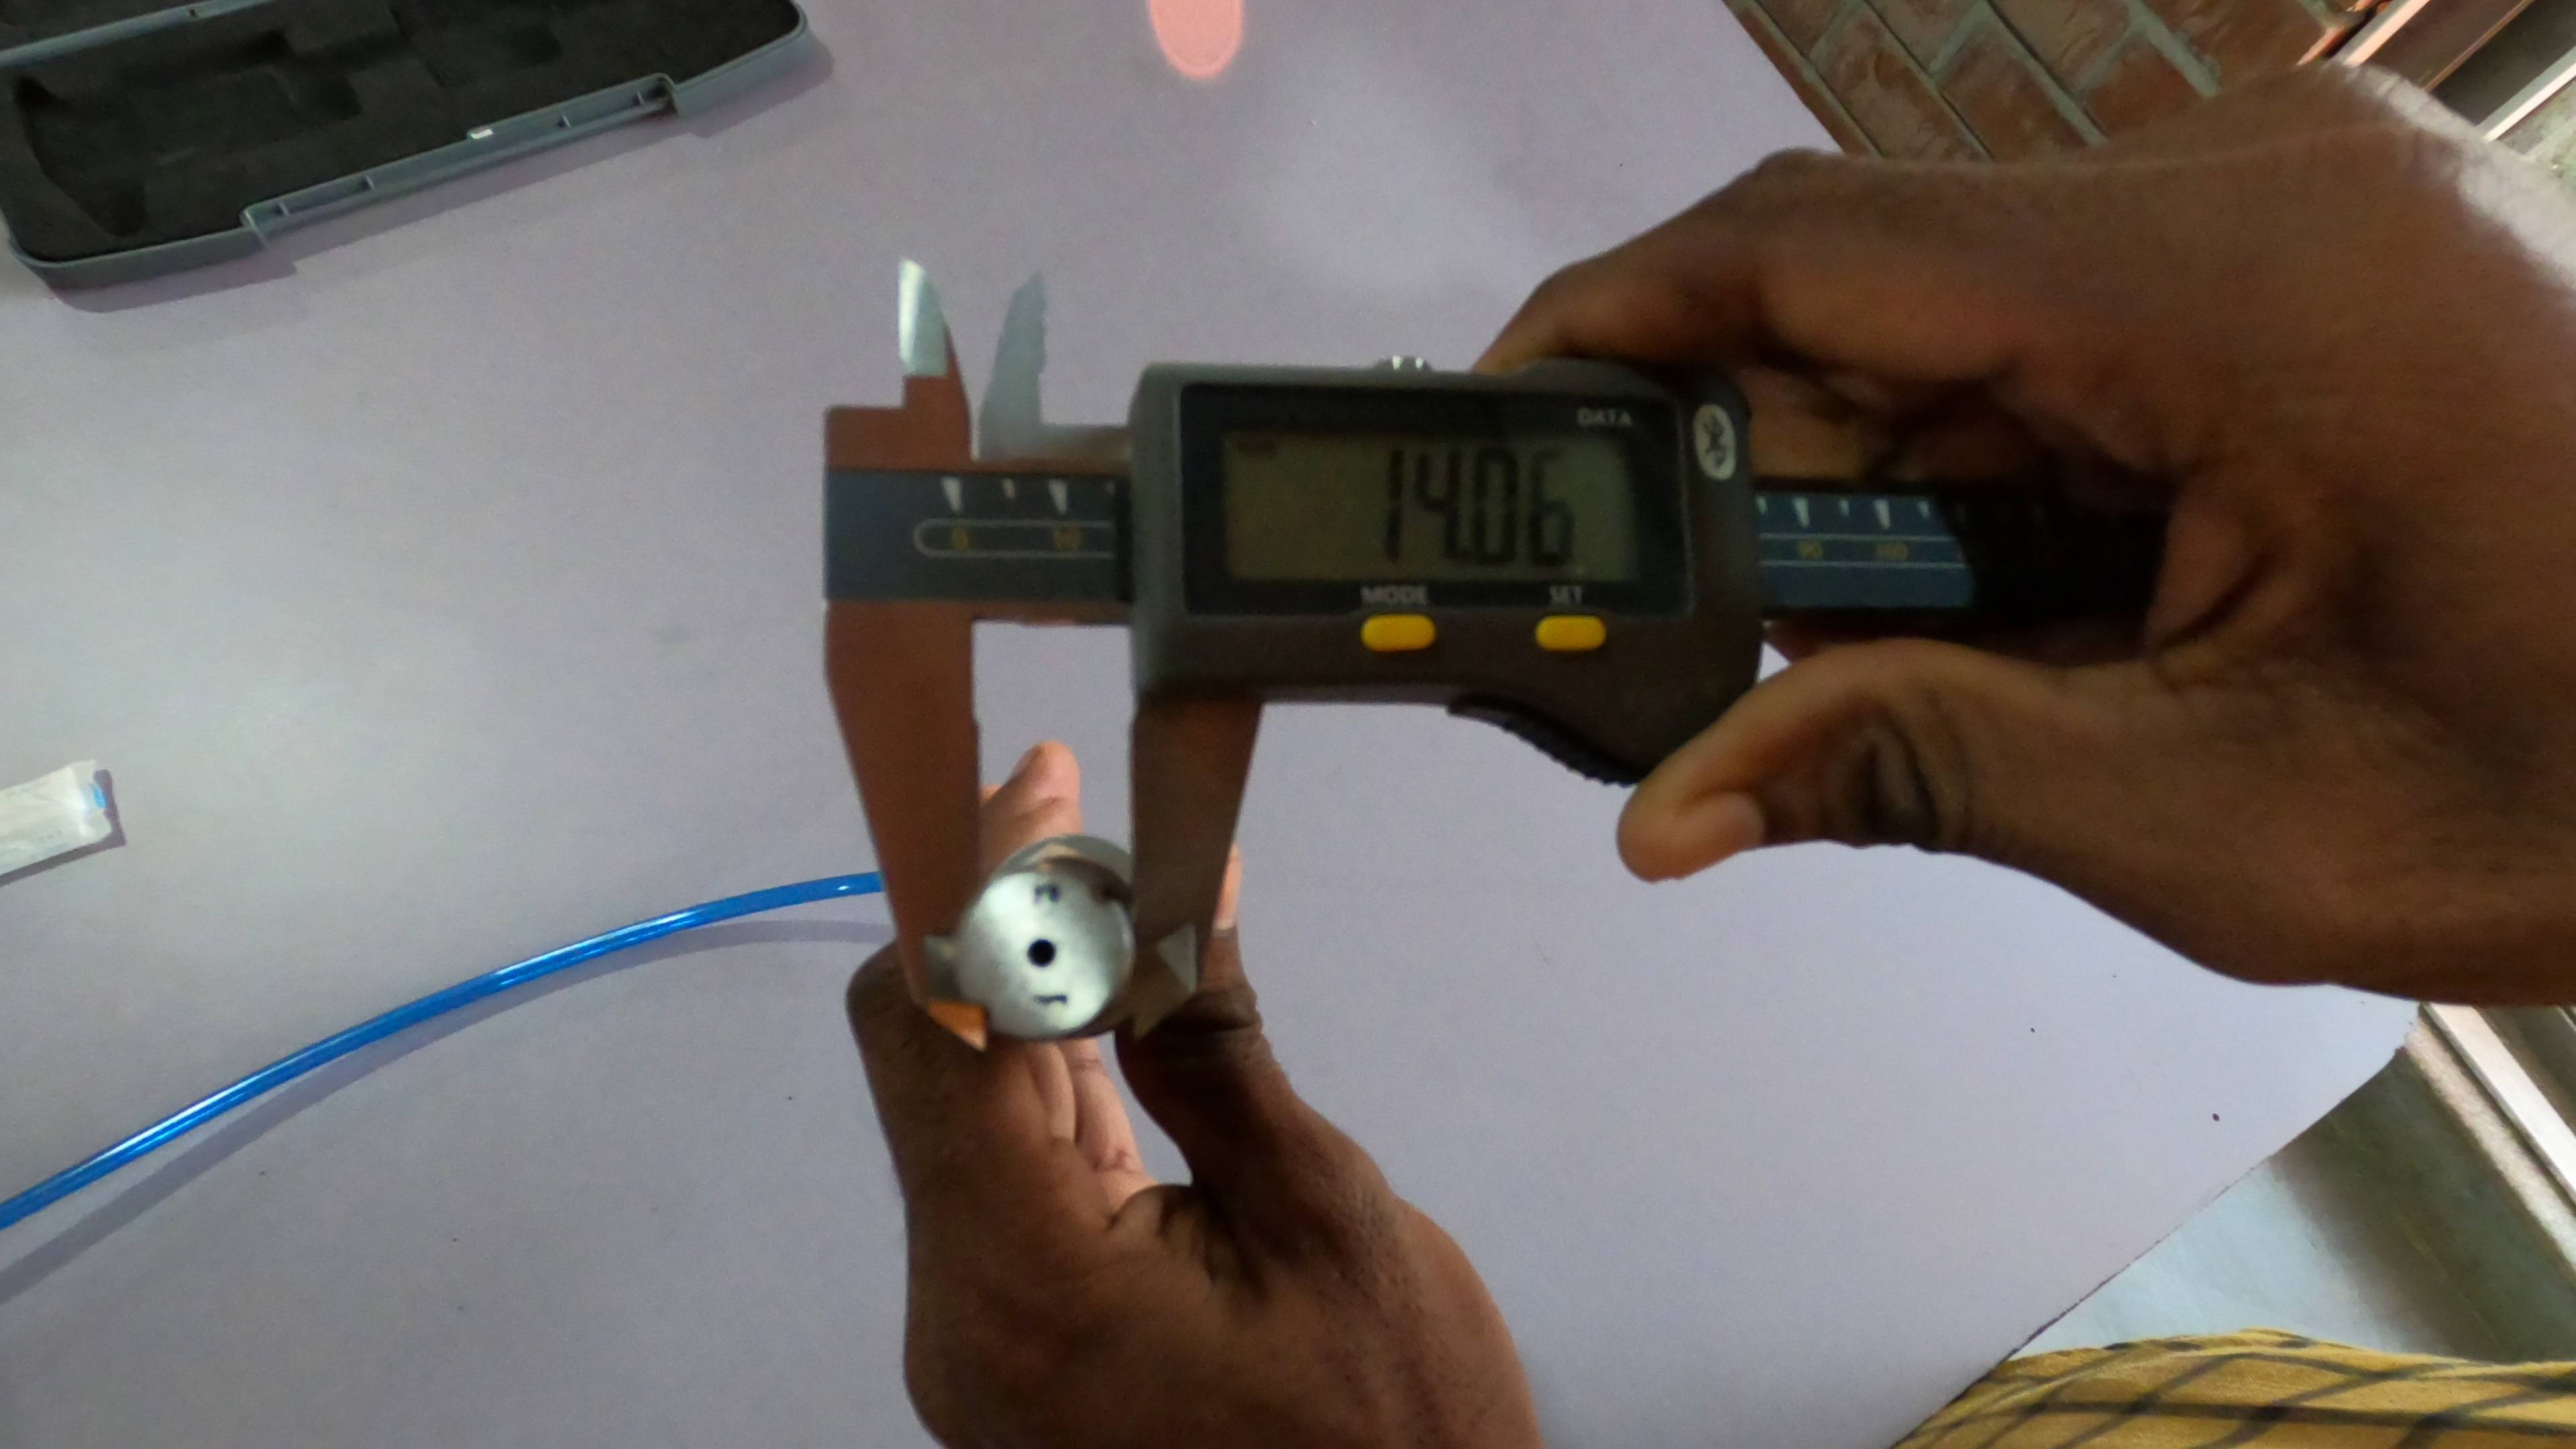vernier_caliper: (819, 251, 2112, 1056)
